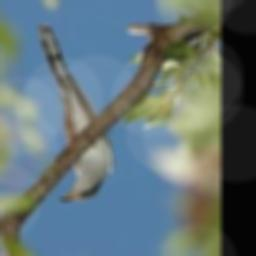Cuckoo: (39, 23, 114, 203)
